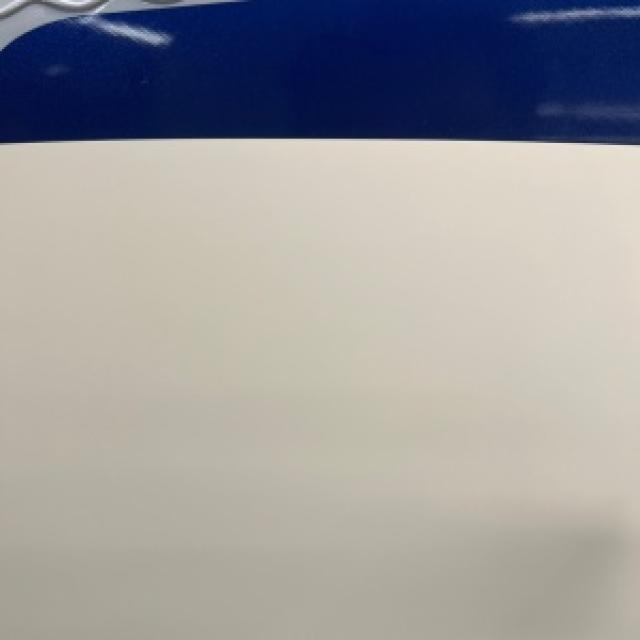healthy: (0, 0, 638, 638), (0, 0, 638, 139)
